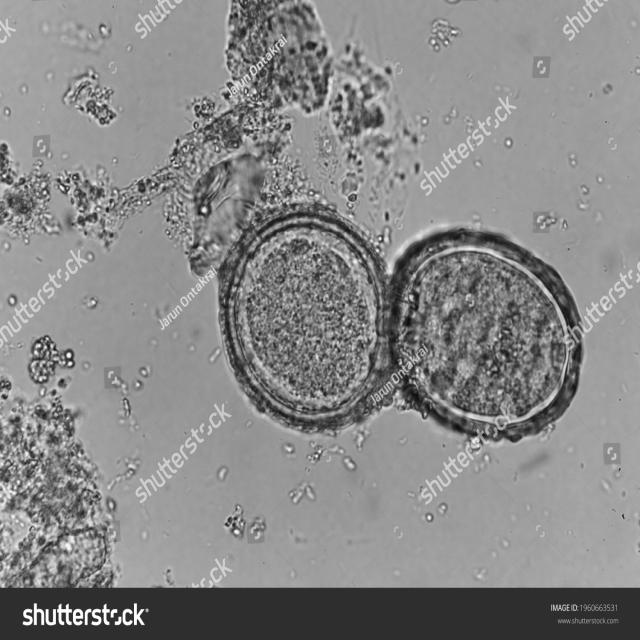Ascaris Lumbricoides: (378, 222, 589, 454), (210, 187, 398, 446)
